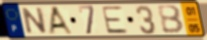3: (136, 4, 157, 36)
7: (77, 5, 96, 37)
A: (47, 5, 76, 36)
B: (156, 5, 186, 35)
E: (100, 5, 130, 35)
N: (22, 7, 49, 36)
